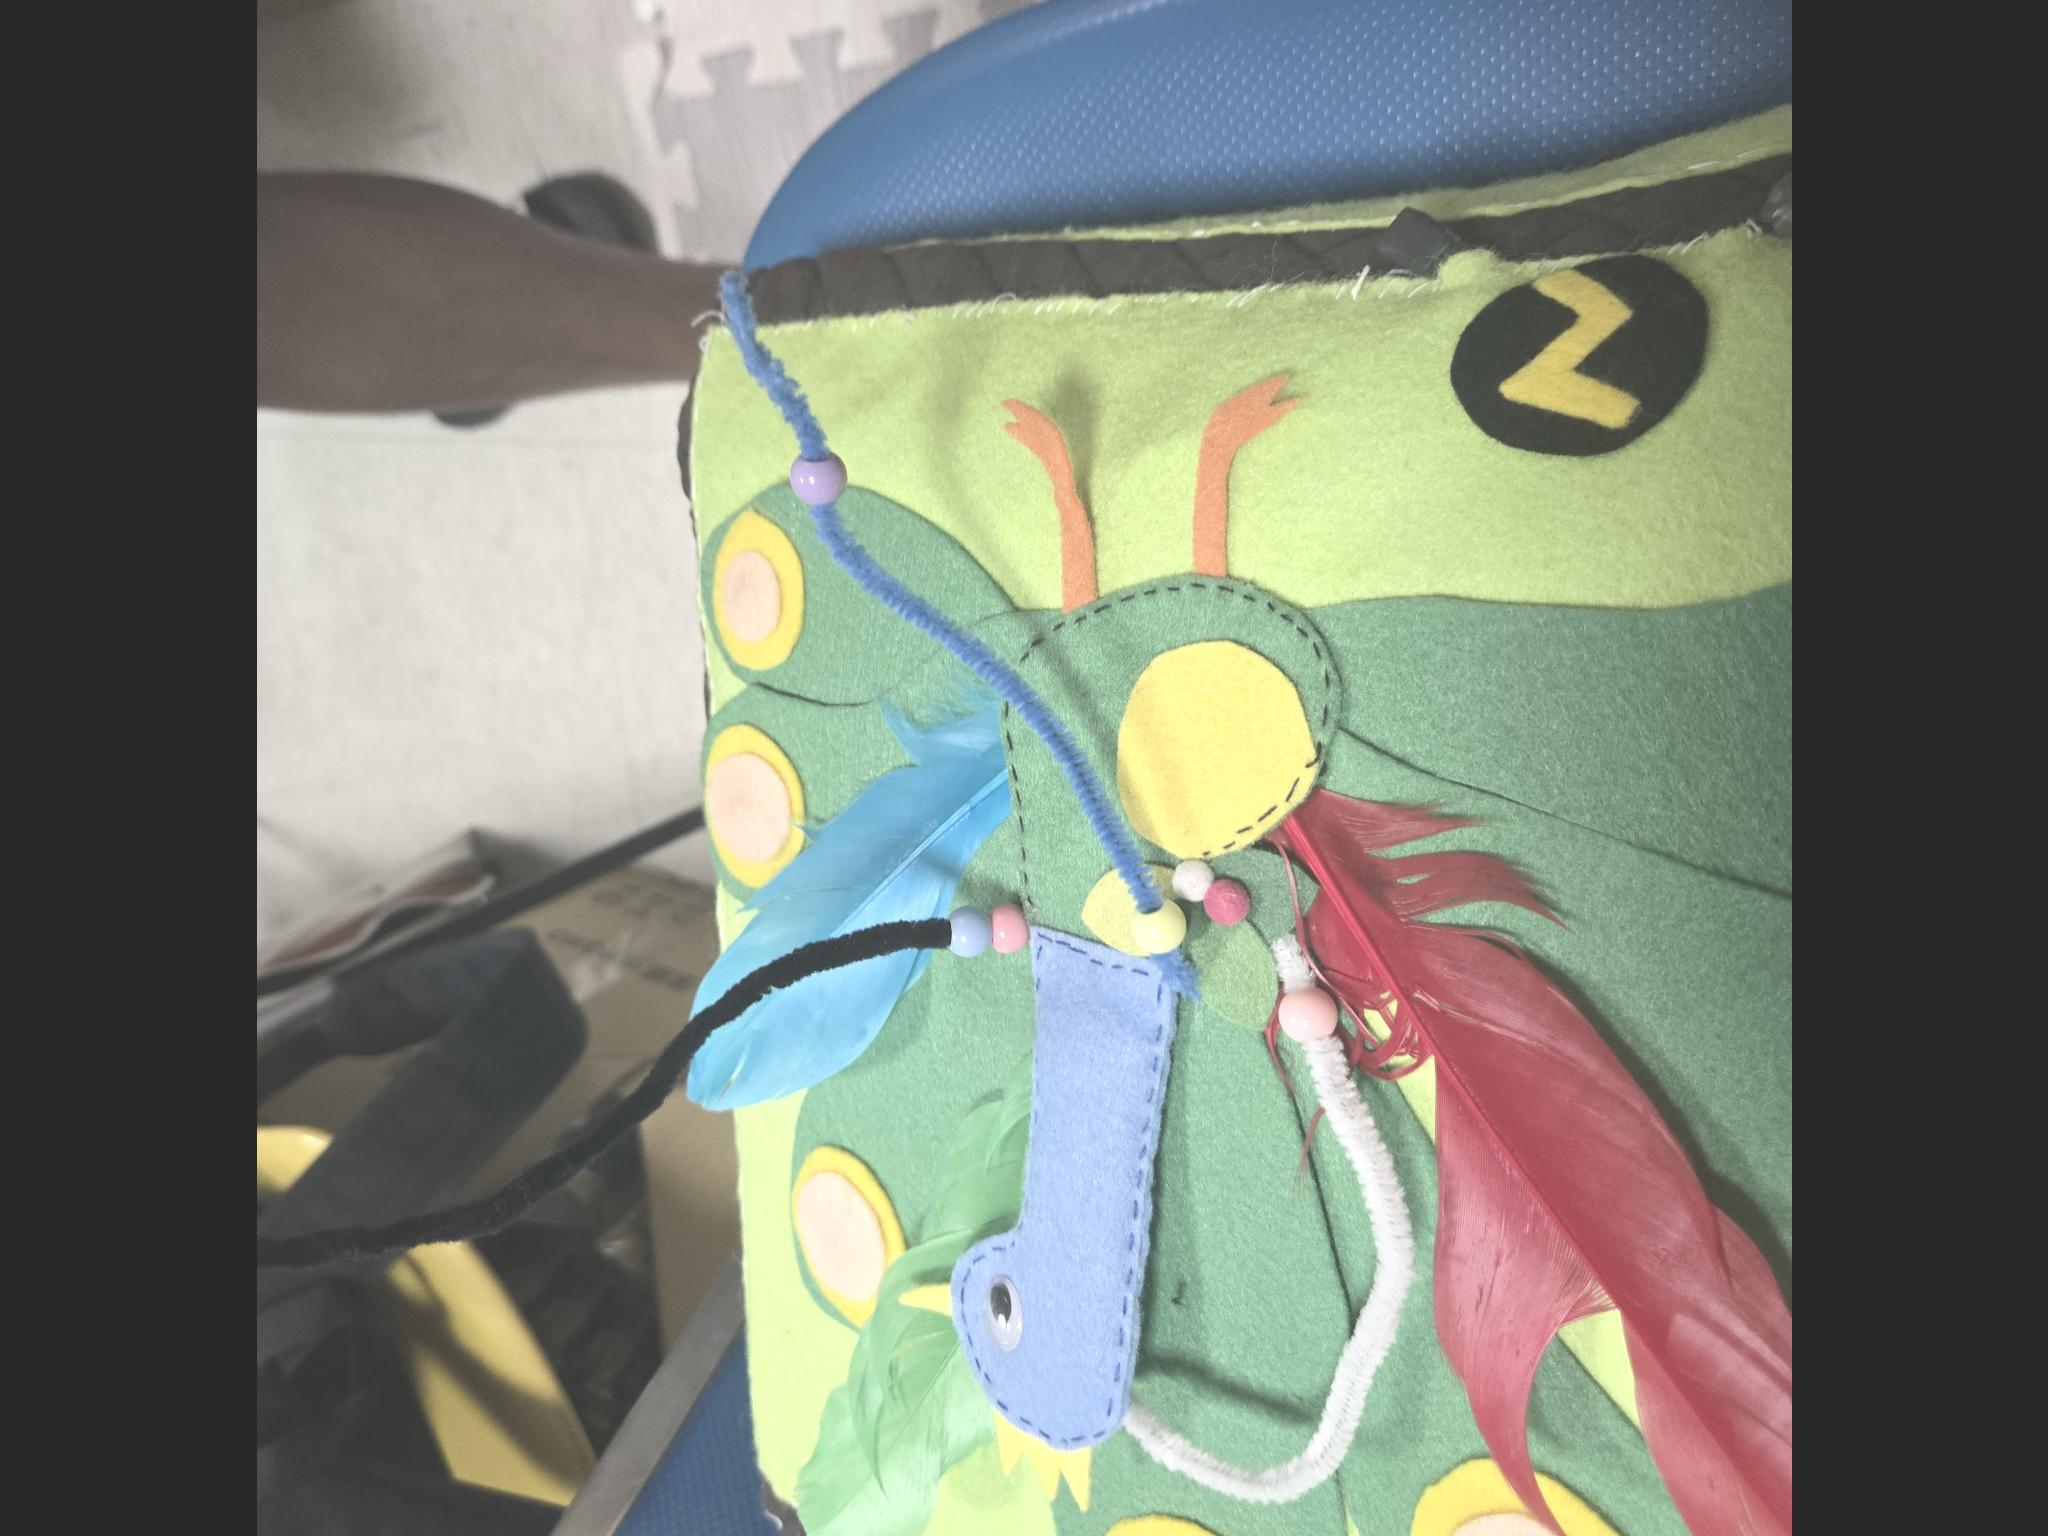bead: (769, 432, 863, 520), (1111, 892, 1197, 971), (1263, 973, 1343, 1050), (979, 894, 1042, 971), (940, 902, 989, 968)
